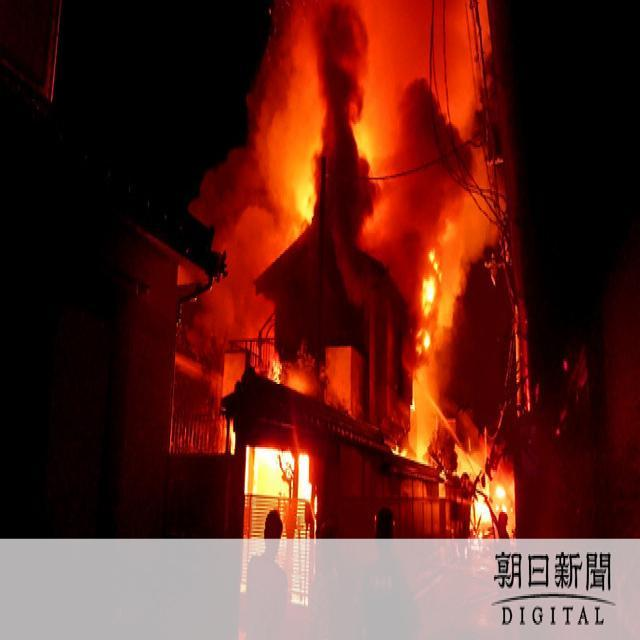Fire: (193, 0, 498, 465)
